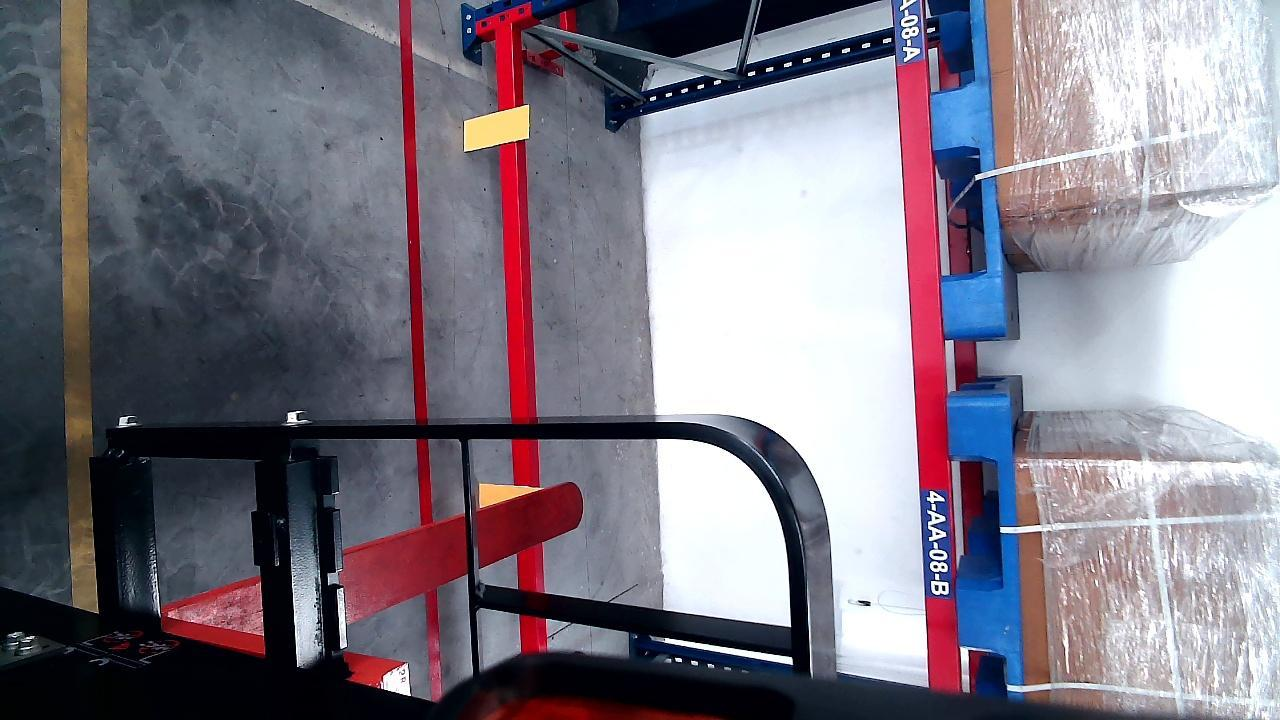red_line: (398, 0, 435, 532)
yellow_line: (59, 0, 98, 613)
